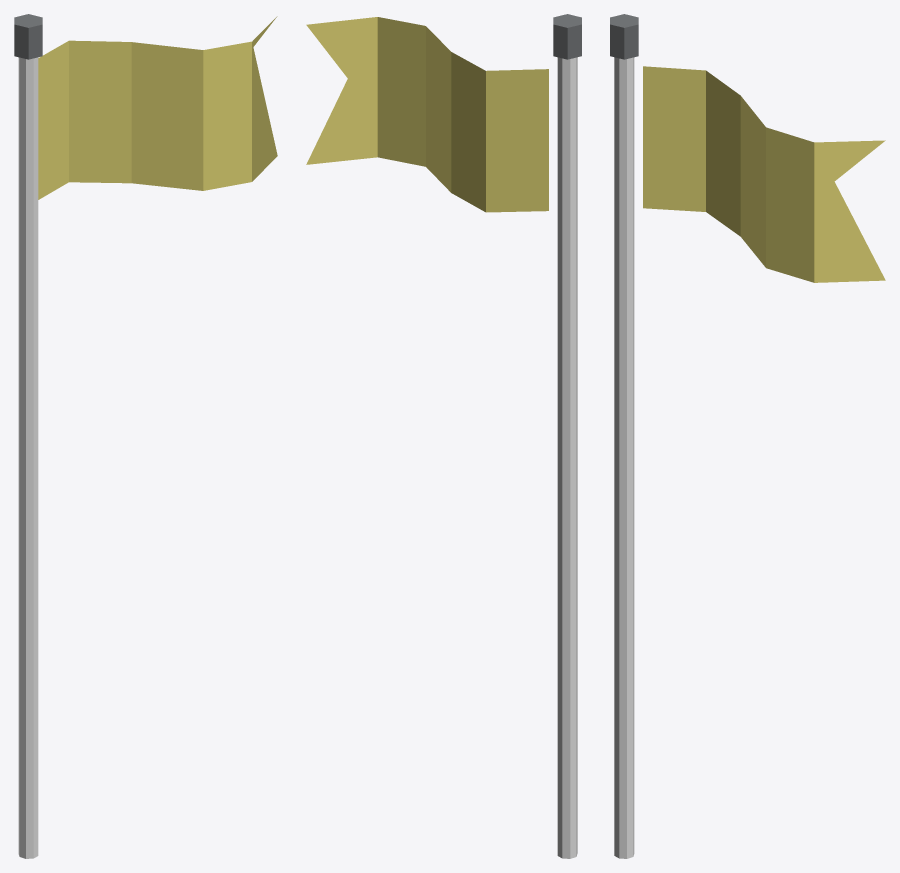
File: flag_03.glb
3 views of the same model, side by side, from view 1: azimuth 30°, elevation 25°; view 2: azimuth 150°, elevation 25°; view 3: azimuth 330°, elevation 25° (orthographic).
Visible parts, largest first — view 1: Flag_03; view 2: Flag_03; view 3: Flag_03.
Part boxes in pixels (x1=…): Flag_03: x1=14, y1=14, x2=277, y2=858; Flag_03: x1=306, y1=14, x2=581, y2=858; Flag_03: x1=610, y1=14, x2=885, y2=858.
Bounding box in the file's own units: 0.755 × 2.23 × 0.1817.
